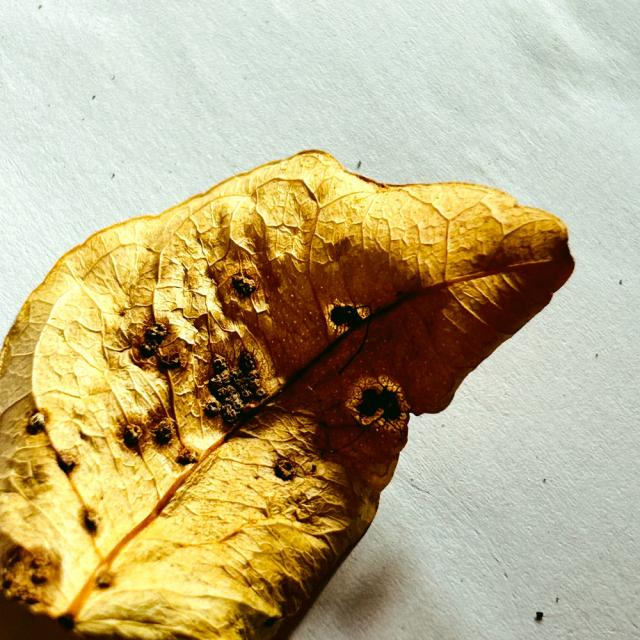DryLeaf_Lemon: (0, 150, 573, 639)
